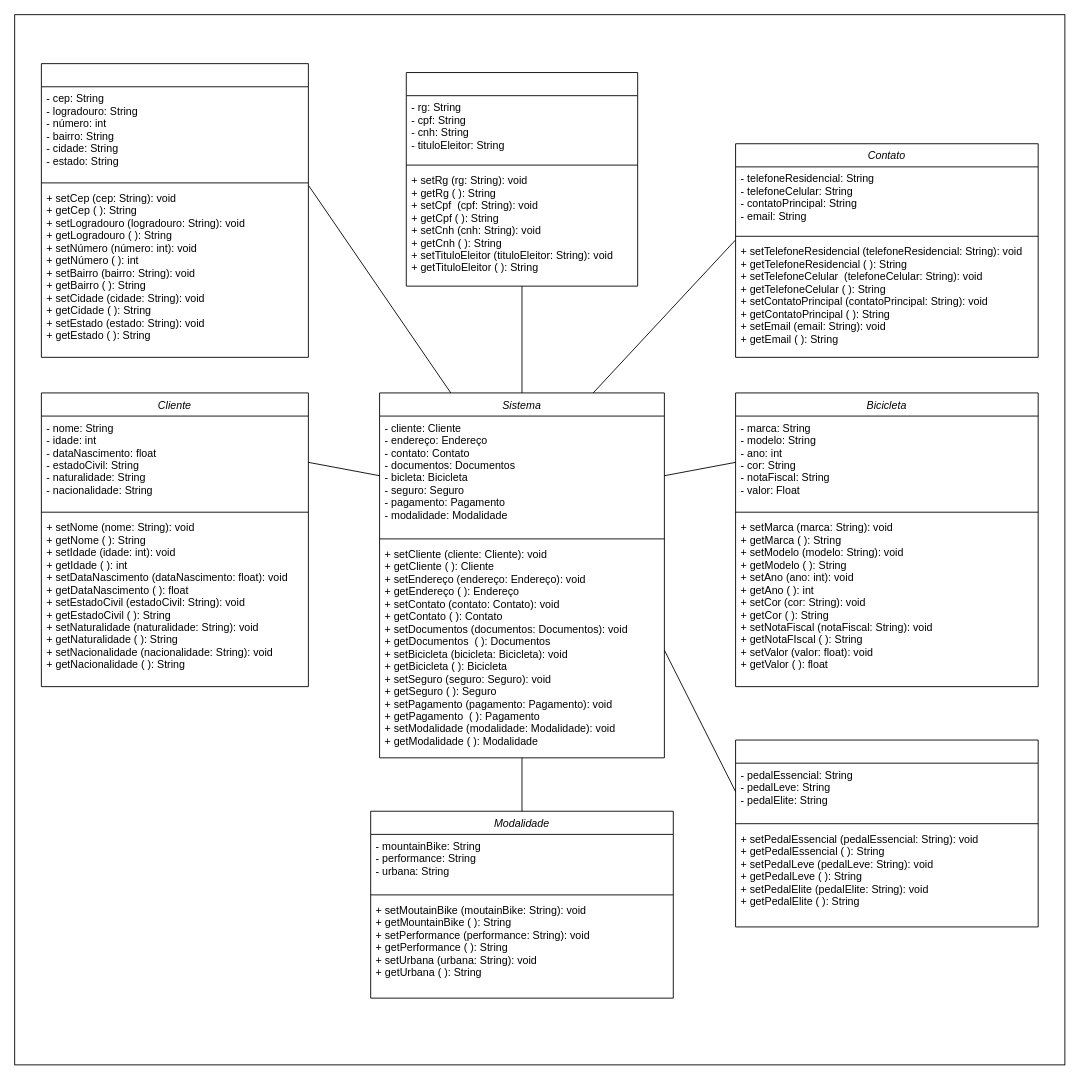
Some shapes in this 1080 by 1080 pixel diagram are drawn without their labels. Here are the shapes that lost their labels. From the top down, the box of each, then its label:
(405, 72, 638, 286): Documentos
(40, 63, 308, 357): Endereço
(735, 739, 1038, 927): Seguro
